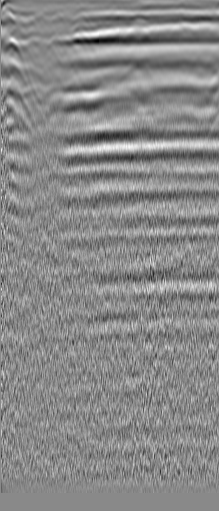오수: (26, 29, 46, 49)
우수: (172, 17, 192, 37)
